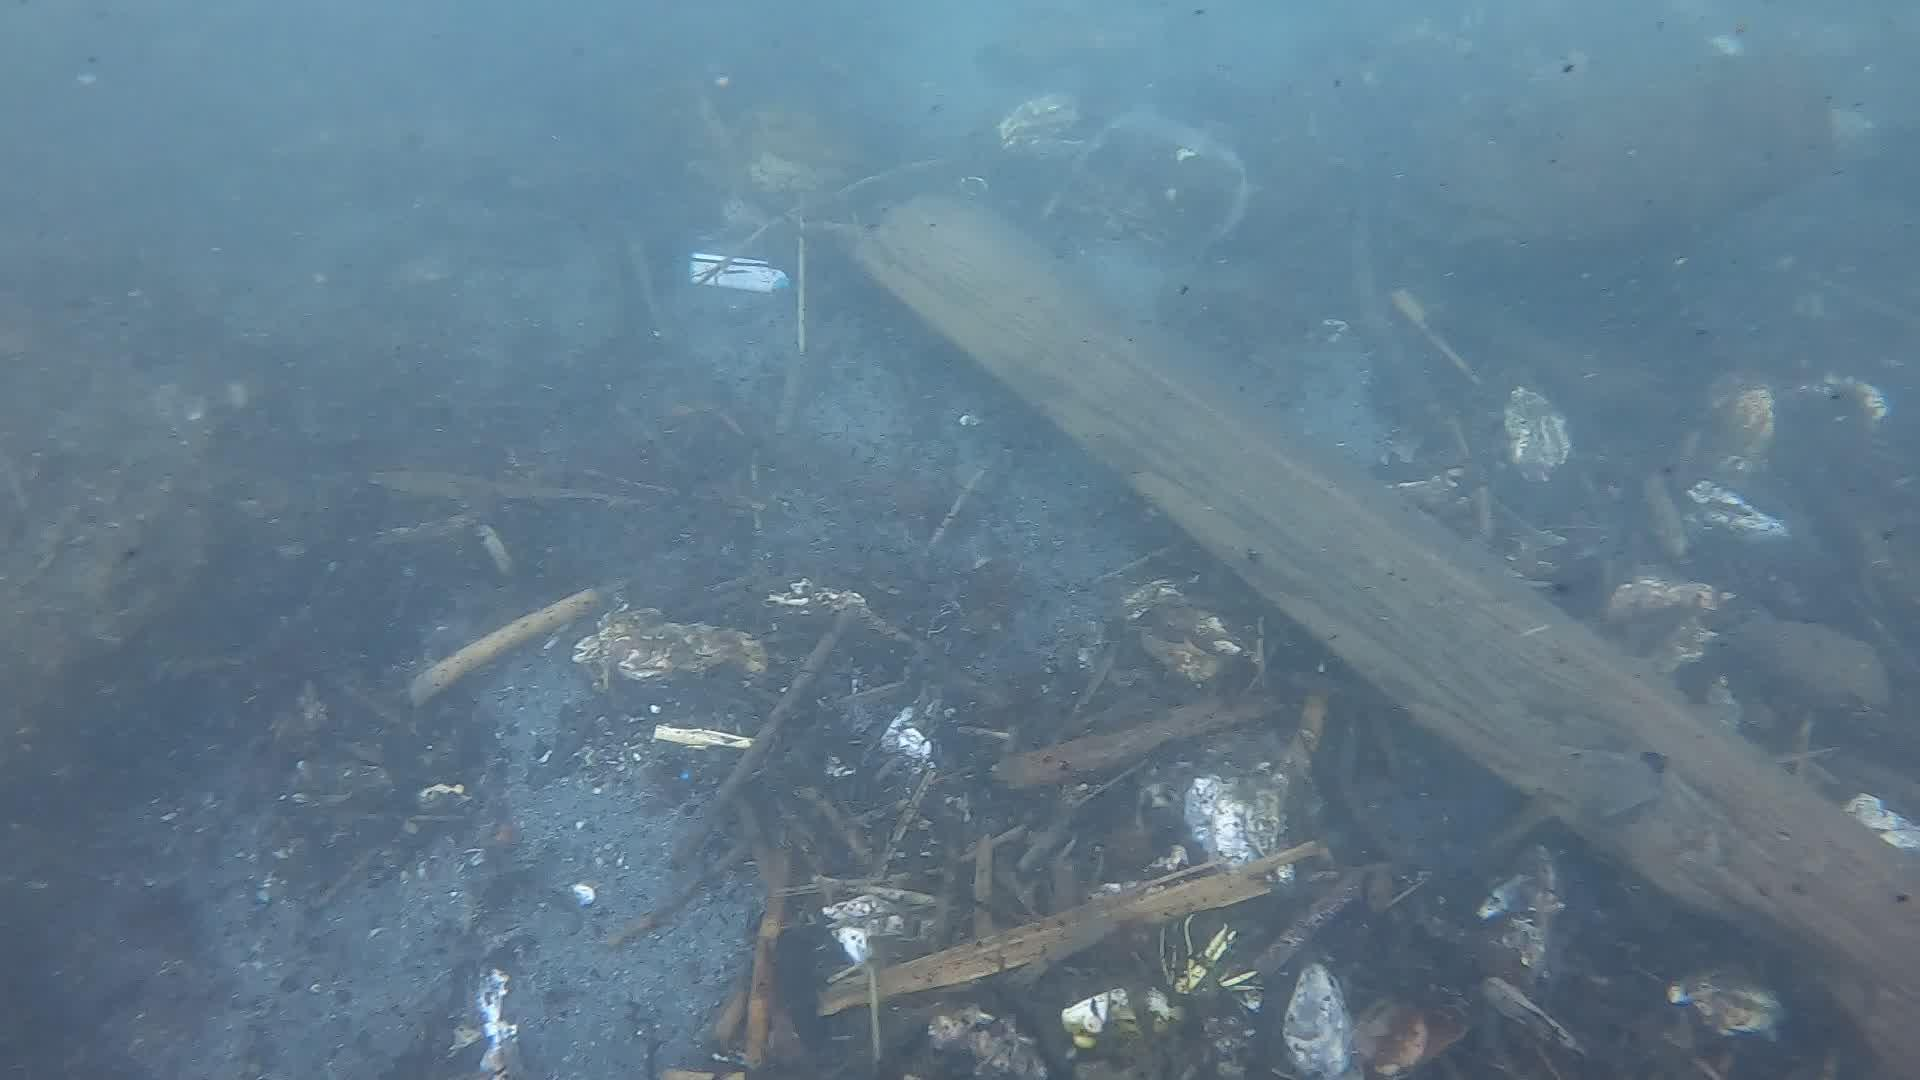wood: (843, 193, 1920, 1075)
